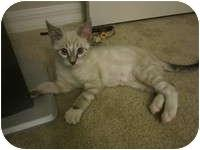siamese: (44, 17, 96, 72)
